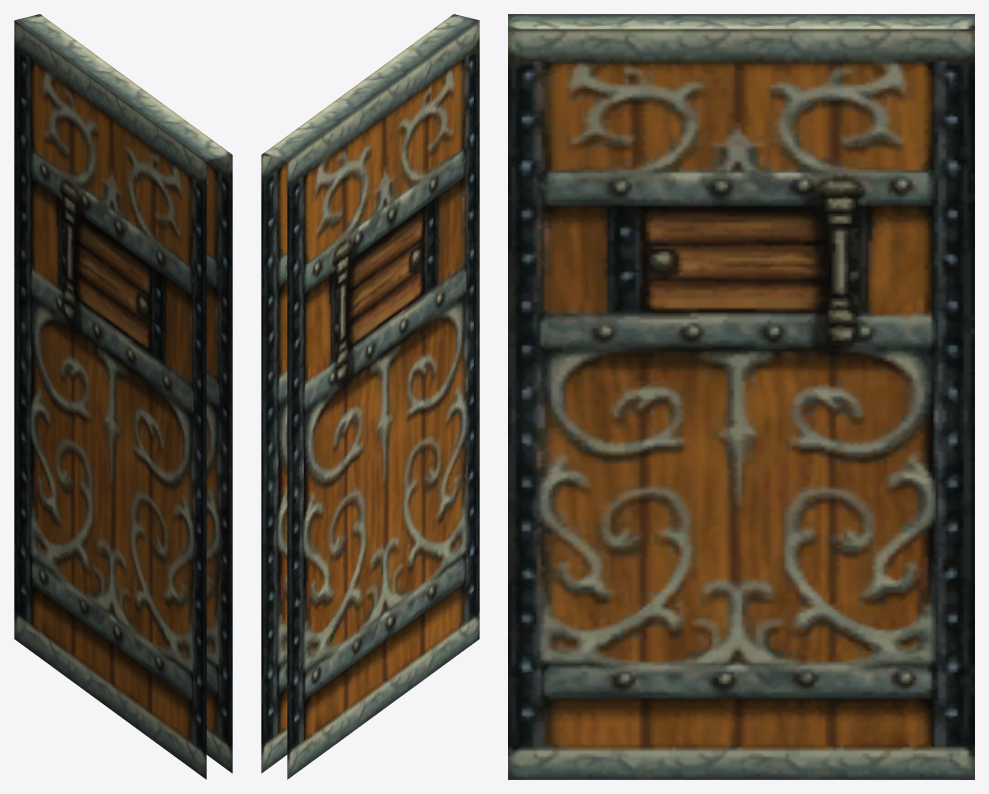
Rendered from INST_EKH_JAILDOOR.fbx.
The picture shows the model from 3 angles, left to right: view 1: azimuth 30°, elevation 25°; view 2: azimuth 150°, elevation 25°; view 3: azimuth 270°, elevation 25°; orthographic projection. The views are drawn at different scales.
Parts seen in each view (by area): view 1: INST_EKH_JAILDOOR; view 2: INST_EKH_JAILDOOR; view 3: INST_EKH_JAILDOOR.
Part boxes in pixels (bbox=[...]): INST_EKH_JAILDOOR: bbox=[14, 14, 232, 779]; INST_EKH_JAILDOOR: bbox=[261, 14, 479, 779]; INST_EKH_JAILDOOR: bbox=[508, 14, 974, 779].
Bounding box in the file's own units: 851 × 19530 × 11004.
Materials: 1 (1 with a texture image).
